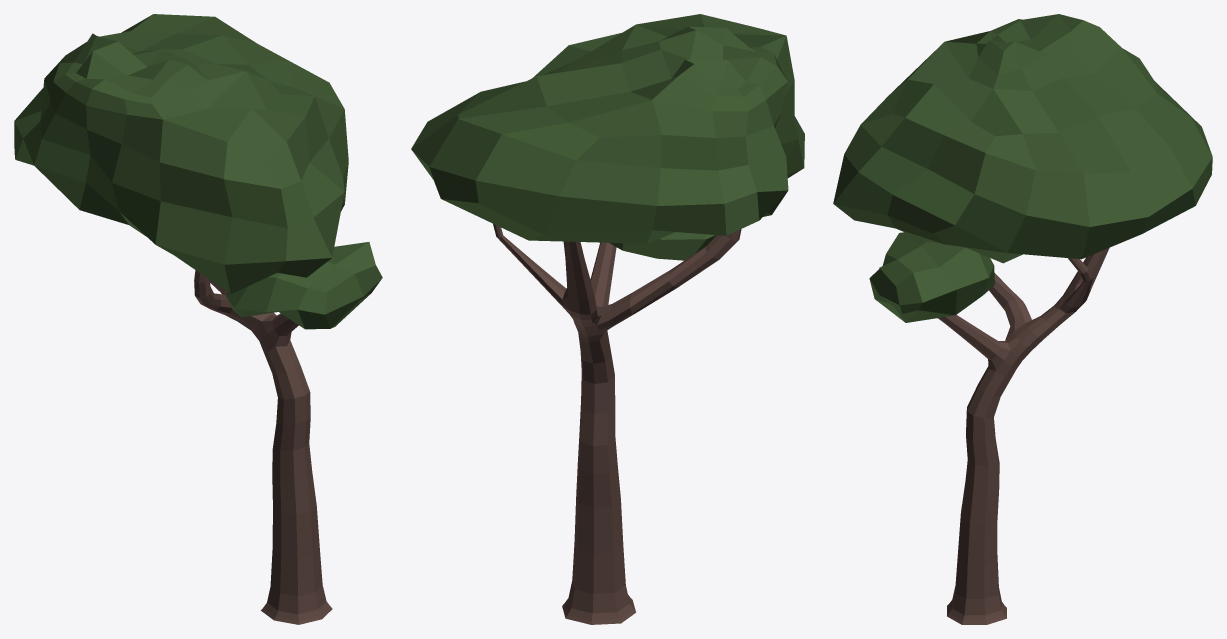
Rendered from simple.002.fbx.
3 views of the same model, side by side, from view 1: azimuth 30°, elevation 25°; view 2: azimuth 150°, elevation 25°; view 3: azimuth 270°, elevation 25° (orthographic). The views are drawn at different scales.
Visible parts, largest first — view 1: simple.002; view 2: simple.002; view 3: simple.002.
Boxes of the visible parts, x1,y1,x2,y2 form: simple.002: [14, 14, 382, 624]; simple.002: [411, 14, 804, 624]; simple.002: [833, 14, 1212, 624].
Size of the model in its own units: 1.58 by 2.77 by 1.8.
